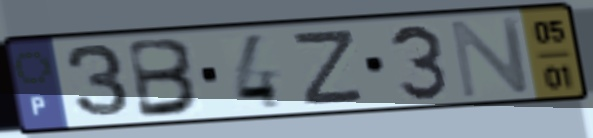3: (61, 42, 134, 121), (385, 20, 453, 104)
4: (226, 31, 289, 113)
B: (125, 36, 205, 121)
N: (446, 13, 535, 101)
Z: (291, 26, 368, 108)
